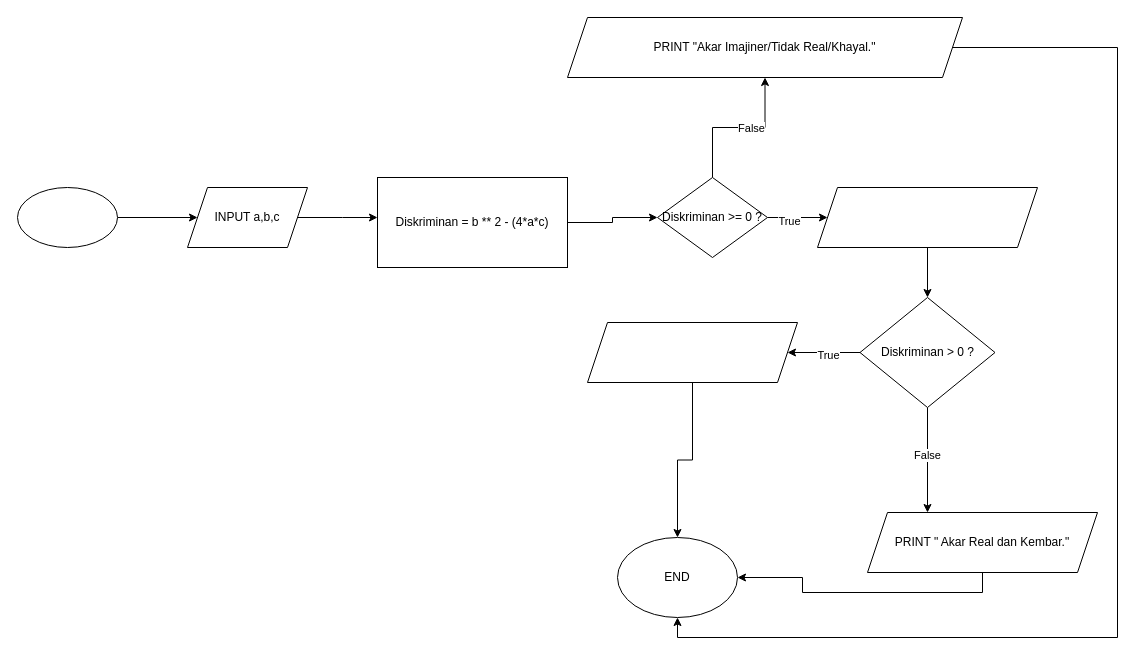
Image size: 1143x663. Some labels were removed from this diagram. The centre of each missing label's shape, as x and y in pixels:
PRINT " Akar Real/Nyata.": (927,217)
PRINT "Akar Real dan Berlainan.": (692,352)
START: (67,217)
